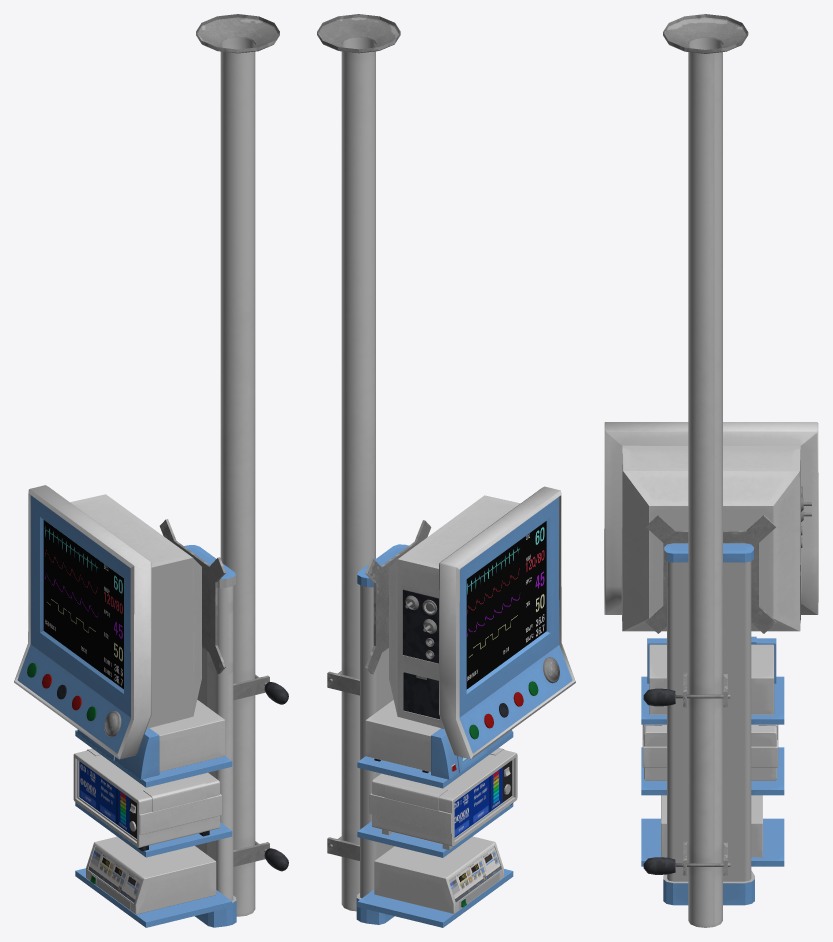
Rendered from MachineB.fbx.
3 renders of one model, left to right at view 1: azimuth 30°, elevation 25°; view 2: azimuth 150°, elevation 25°; view 3: azimuth 270°, elevation 25°, orthographic.
Parts seen in each view (by area): view 1: MachineB; view 2: MachineB; view 3: MachineB.
Part boxes in pixels (box(x1,y1,x2,y2)): MachineB: box(14, 14, 288, 927); MachineB: box(317, 14, 575, 927); MachineB: box(604, 14, 818, 927).
Bounding box in the file's own units: 54.07 × 220 × 48.19.
